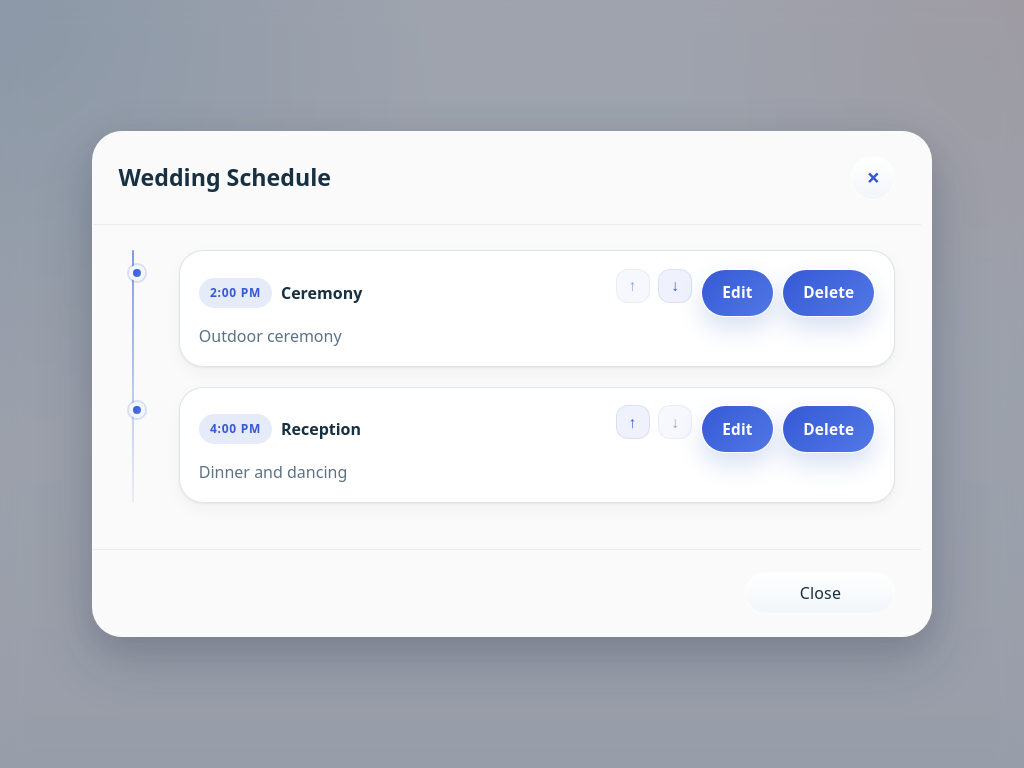
ScheduleModal › closes the edit modal when the × button is clicked
The image size is (1024, 768).
What coordinates should you click on to do the following:
click the button "Edit" in the row of "2:00 PM"
I would click on:
 (737, 293)
Its box is [701,269,774,317].
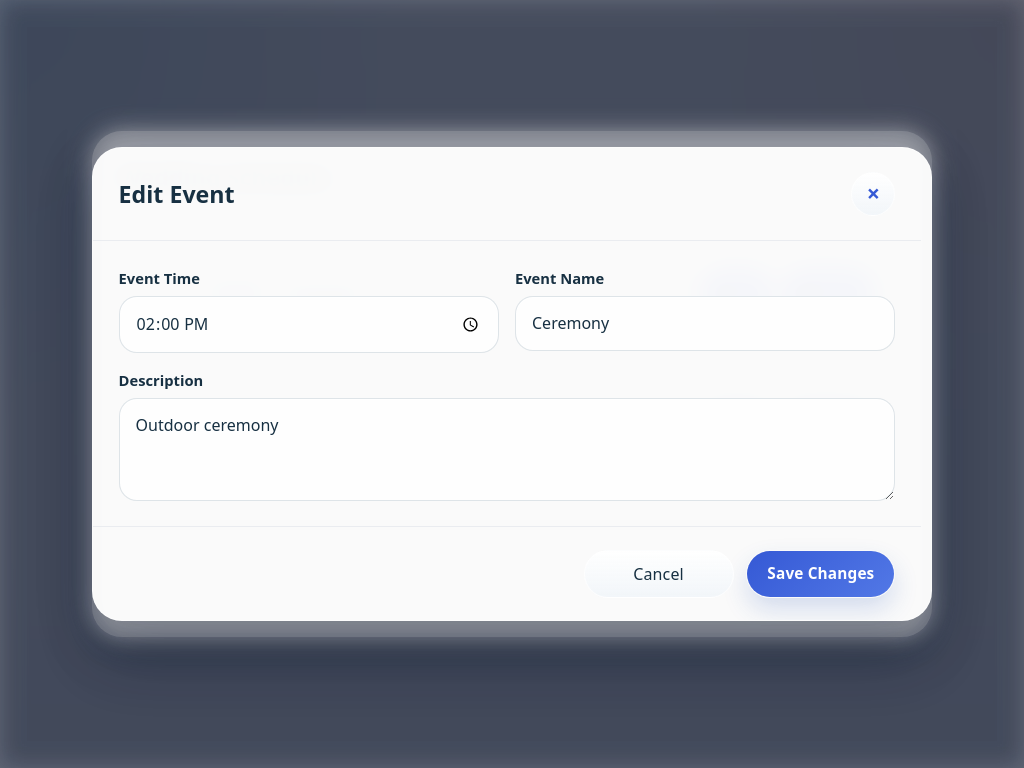
Expected: the heading "Edit Event" is shown, [119,176,235,211]
# Click the last × button (the one in the EditEventModal)
What coordinates should you click on to do the following:
click the button "×"
I would click on:
 (873, 194)
Its box is [851,172,895,216].
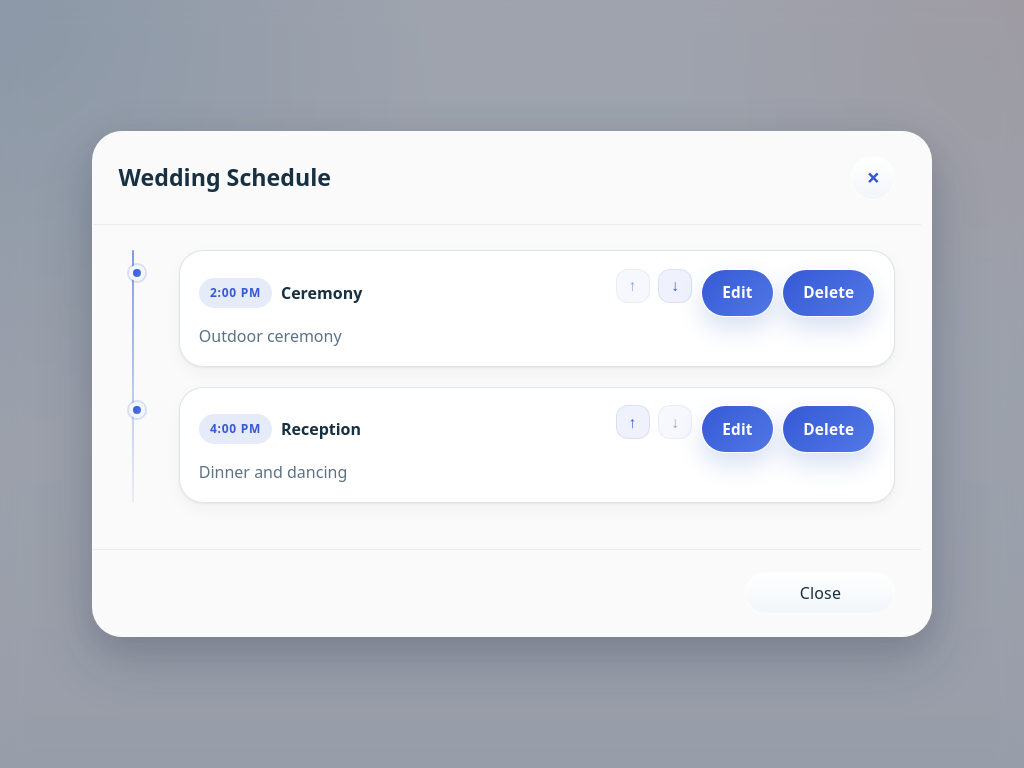
Expected: the heading "Edit Event" is gone
